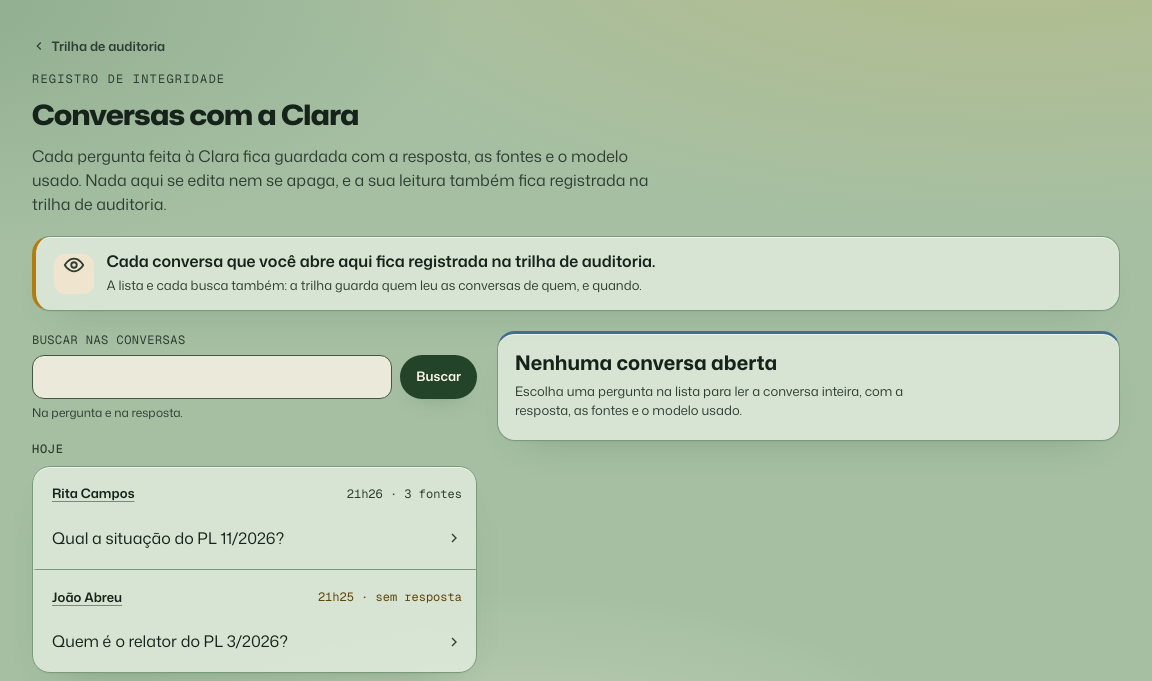
Test case: Conversas com a Clara (/auditoria/clara) › o nome filtra pela pessoa; o chip devolve a Casa inteira
This screenshot has width=1152, height=681.
Click the button with aria-label "Rita Campos: ver só".
click(93, 494)  # box [46,472,140,516]
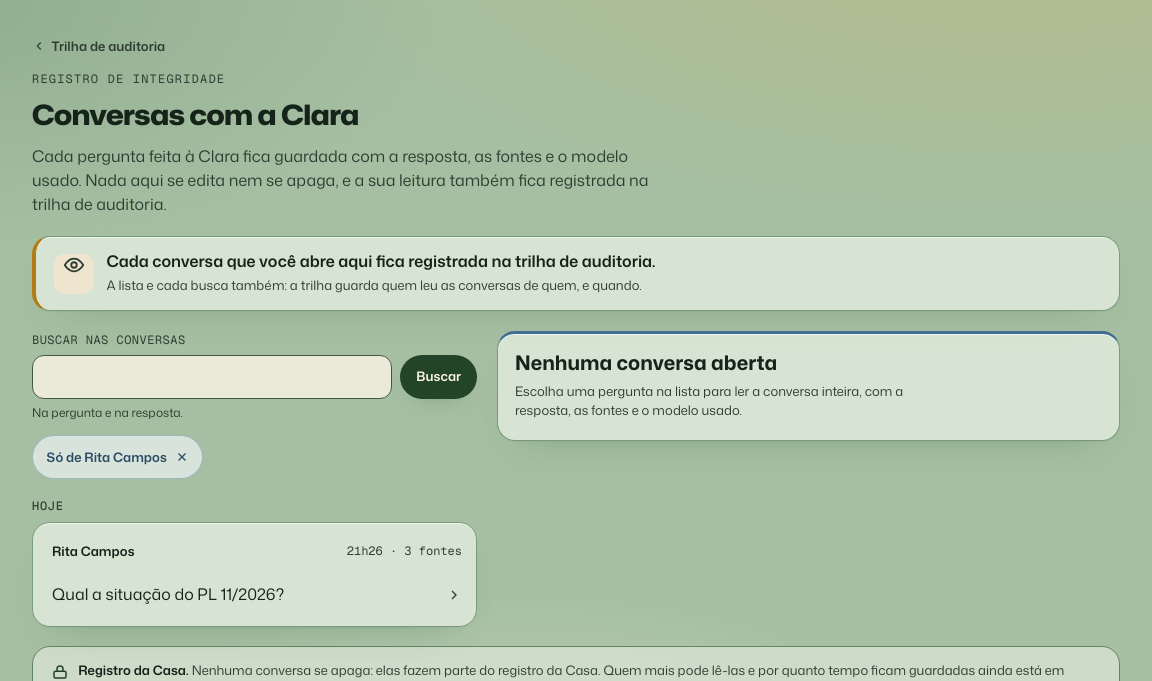
Result: the button with aria-label "Tirar o filtro: só de Rita Campos" reads "Só de Rita Campos"
Result: the number of list items is 1 at [33,523,476,626]
Click the button with aria-label "Tirar o filtro: só de Rita Campos".
click(118, 457)  # box [32,435,203,479]
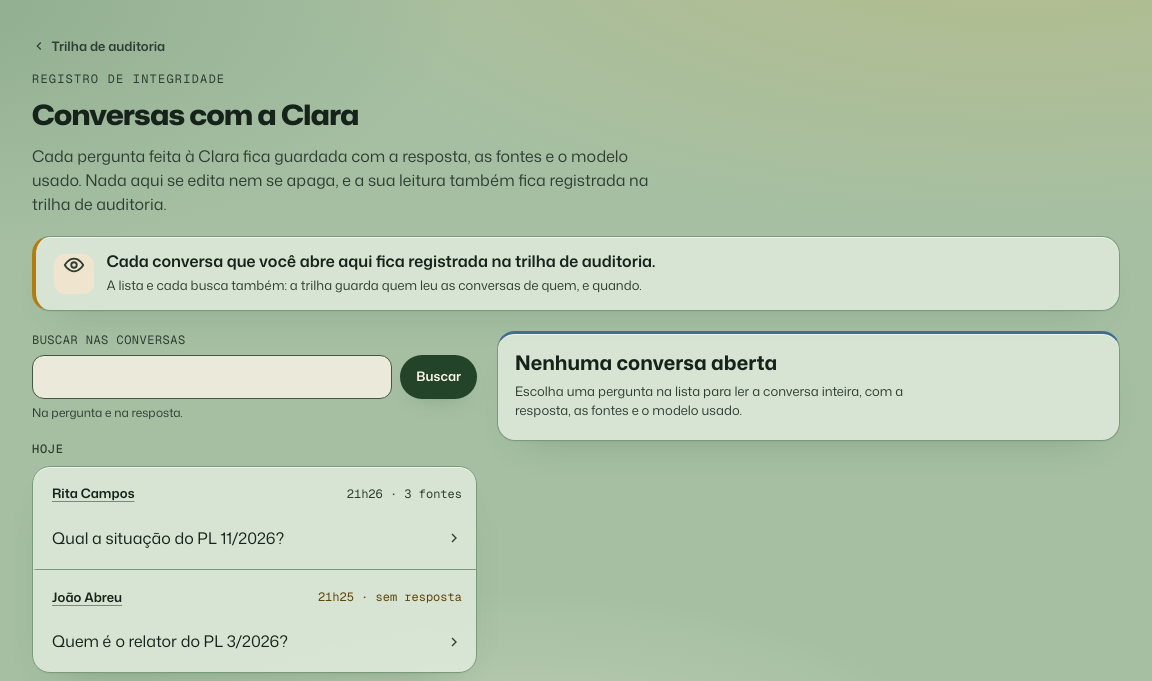
Result: the number of list items is 2 at [33,467,476,569]; [33,569,476,672]
